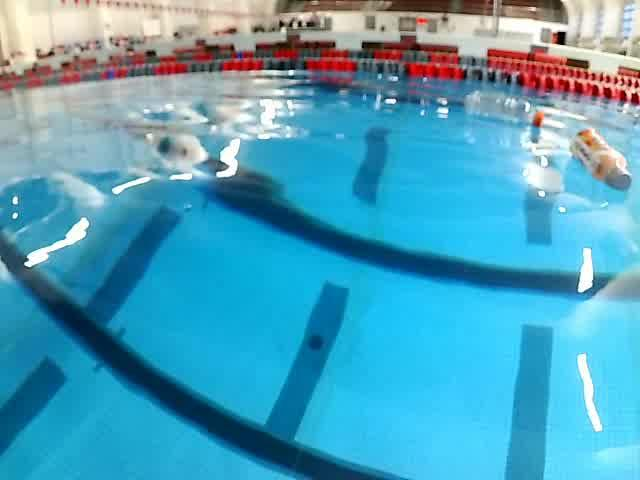Bottle: (566, 123, 638, 197), (459, 87, 552, 132)
